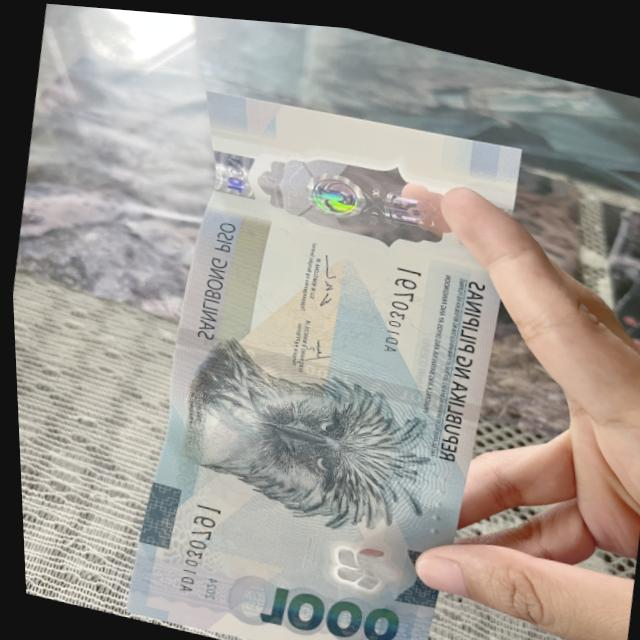clear_window: (242, 121, 464, 249)
eagle: (165, 329, 462, 532)
sampaguita: (287, 516, 404, 598)
security_thread: (163, 325, 477, 419)
serial_number: (355, 247, 437, 370), (158, 494, 232, 612)
value_watermark: (211, 144, 260, 203)
